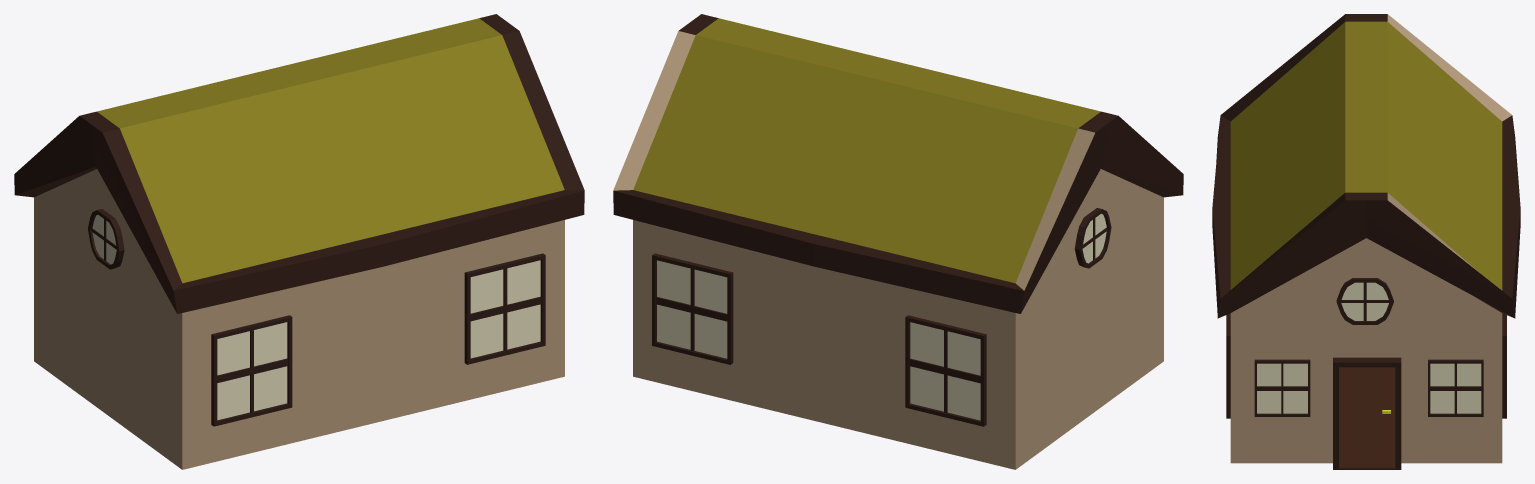
3 renders of one model, left to right at view 1: azimuth 30°, elevation 25°; view 2: azimuth 150°, elevation 25°; view 3: azimuth 270°, elevation 25°, orthographic. The views are drawn at different scales.
Visible parts, largest first — view 1: Ev3; view 2: Ev3; view 3: Ev3.
Boxes of the visible parts, x1,y1,x2,y2 form: Ev3: (14,14,584,469); Ev3: (613,14,1183,469); Ev3: (1212,14,1520,469).
Size of the model in its own units: 1403 by 956 by 980.
